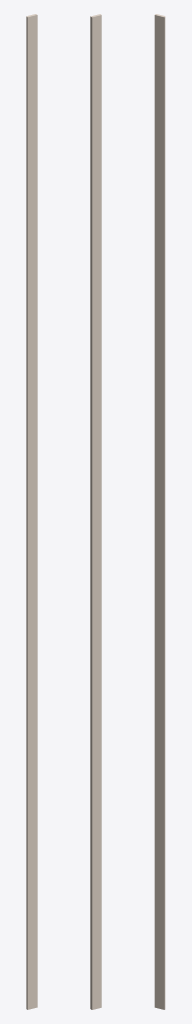
The model's file is adobe-white.glb.
The picture shows the model from 3 angles, left to right: view 1: azimuth 30°, elevation 25°; view 2: azimuth 210°, elevation 25°; view 3: azimuth 330°, elevation 25°; orthographic projection.
Visible parts, largest first — view 1: Adobe White.001; view 2: Adobe White.001; view 3: Adobe White.001.
Part boxes in pixels (x1=…): Adobe White.001: x1=26, y1=14, x2=37, y2=1009; Adobe White.001: x1=90, y1=14, x2=101, y2=1009; Adobe White.001: x1=154, y1=14, x2=165, y2=1009.
Size of the model in its own units: 0.0256 by 2.44 by 0.00655.
